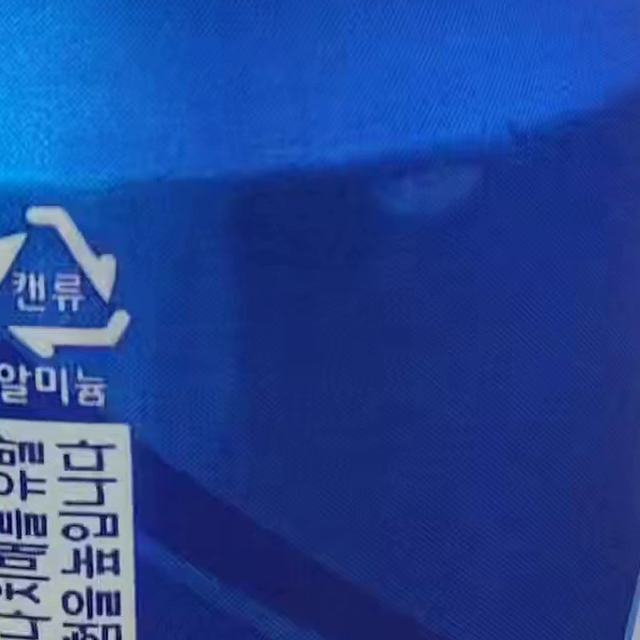Can: (0, 207, 132, 357)
